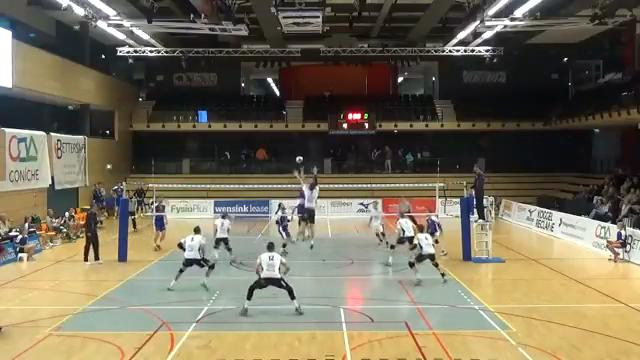Block: (292, 163, 322, 253)
Player: (240, 242, 302, 315), (167, 226, 214, 290), (408, 224, 446, 284), (386, 213, 415, 265), (213, 213, 235, 262), (425, 215, 448, 256), (369, 201, 388, 246), (275, 203, 291, 255), (398, 197, 417, 224), (295, 189, 304, 228)
ball: (295, 155, 303, 162)
